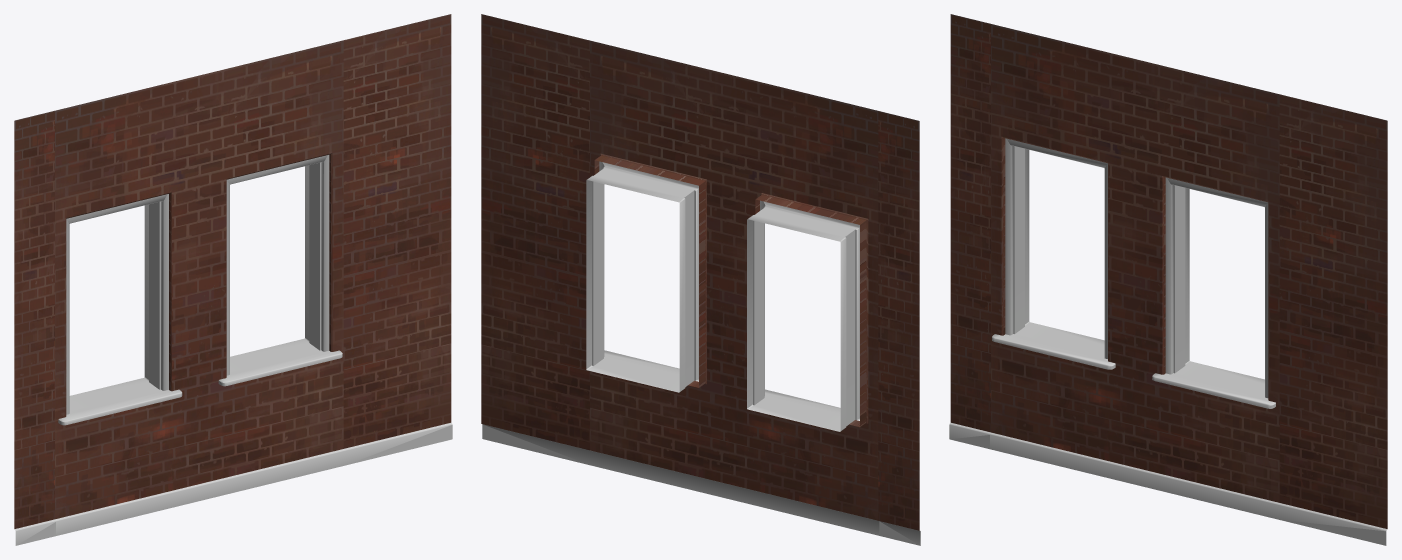
File: Pared_Del_H2.obj
The picture shows the model from 3 angles, left to right: view 1: azimuth 30°, elevation 25°; view 2: azimuth 150°, elevation 25°; view 3: azimuth 330°, elevation 25°; orthographic projection.
Parts seen in each view (by area): view 1: Pared_Del_H2; view 2: Pared_Del_H2; view 3: Pared_Del_H2.
Boxes of the visible parts, bbox=[...] form: Pared_Del_H2: bbox=[14, 14, 452, 545]; Pared_Del_H2: bbox=[481, 14, 920, 545]; Pared_Del_H2: bbox=[949, 14, 1387, 545].
Size of the model in its own units: 2.86 by 2.66 by 0.2849.
5 materials, 5 textured.
